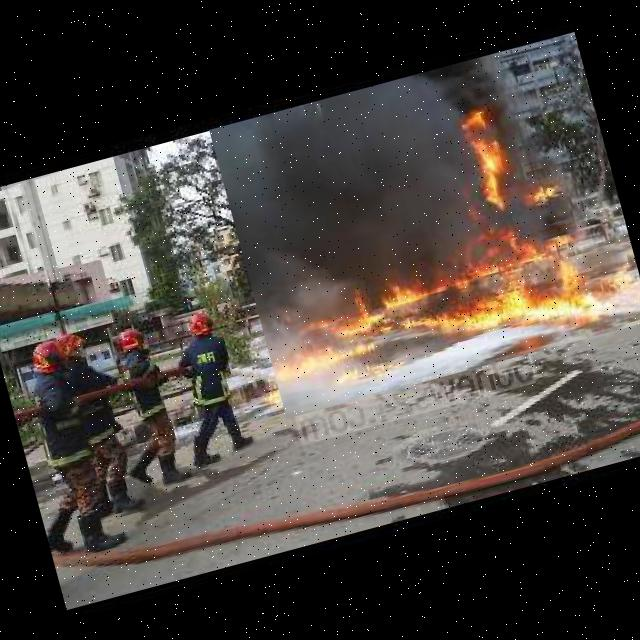fire: (208, 31, 640, 418)
